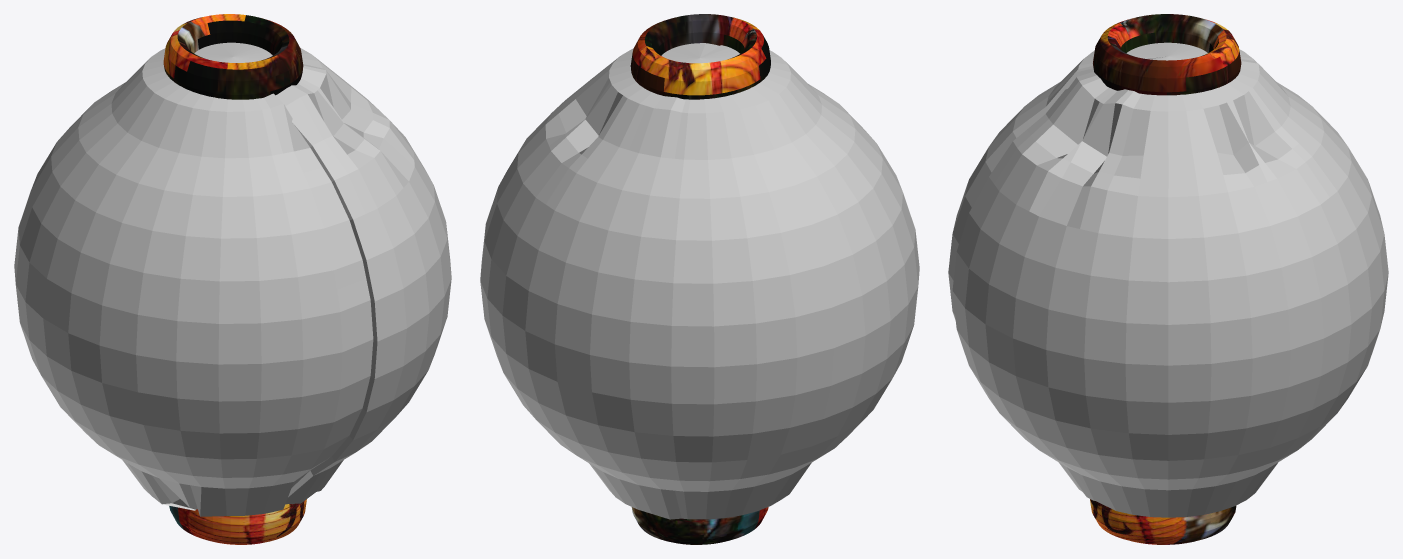
File: lanternTaiwan 1.fbx
The picture shows the model from 3 angles, left to right: view 1: azimuth 30°, elevation 25°; view 2: azimuth 150°, elevation 25°; view 3: azimuth 270°, elevation 25°; orthographic projection.
Parts seen in each view (by area): view 1: Sphere, Torus, Torus.001; view 2: Sphere, Torus, Torus.001; view 3: Sphere, Torus, Torus.001.
Part boxes in pixels (bbox=[...]): Sphere: bbox=[14, 42, 451, 516]; Torus: bbox=[163, 14, 303, 99]; Torus.001: bbox=[169, 499, 306, 544]; Sphere: bbox=[480, 43, 919, 519]; Torus: bbox=[630, 14, 770, 99]; Torus.001: bbox=[631, 507, 768, 544]; Sphere: bbox=[948, 42, 1388, 517]; Torus: bbox=[1093, 14, 1241, 95]; Torus.001: bbox=[1090, 499, 1236, 544].
Bounding box in the file's own units: 2 × 2.42 × 2.
